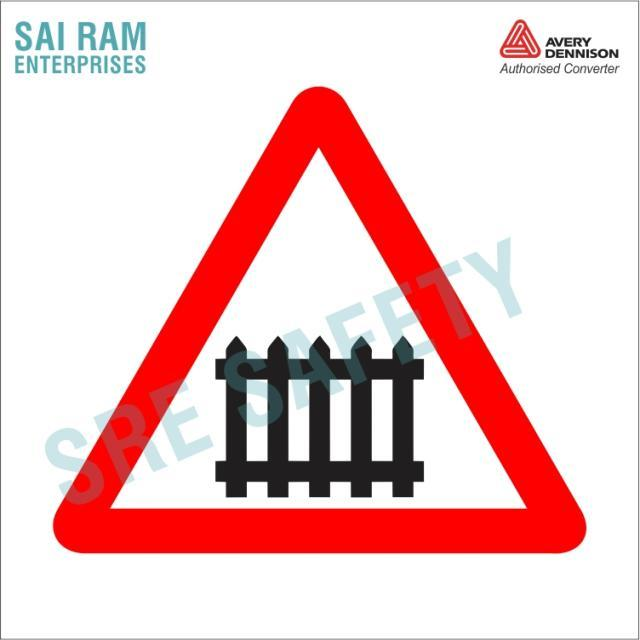guarded level crossing: (54, 66, 587, 558)
